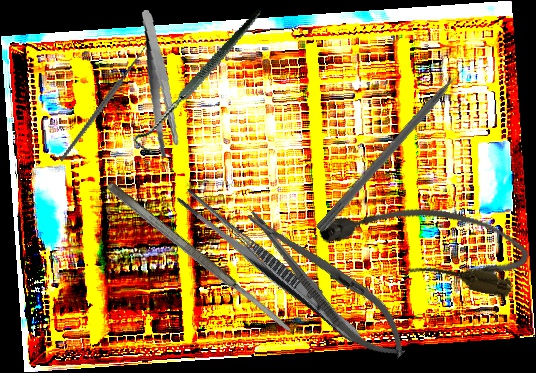Cannula: (313, 182, 534, 302)
Dressing Forceps: (171, 184, 372, 352), (126, 9, 193, 160)
Hook Surgical: (105, 8, 296, 160), (27, 31, 181, 164)
Needle Holder: (233, 194, 420, 373)
Pusher: (314, 56, 478, 235)
Spatula Surgical: (104, 179, 296, 338)
